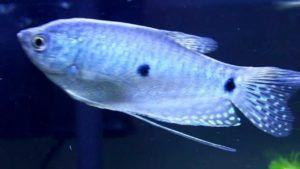Gourami: (18, 17, 300, 153)
